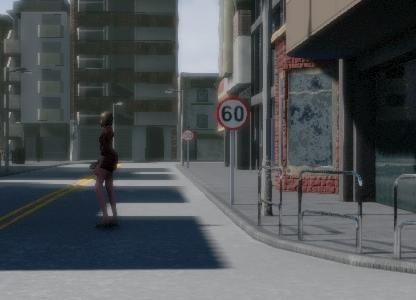Speed_60: (233, 72, 283, 126)
